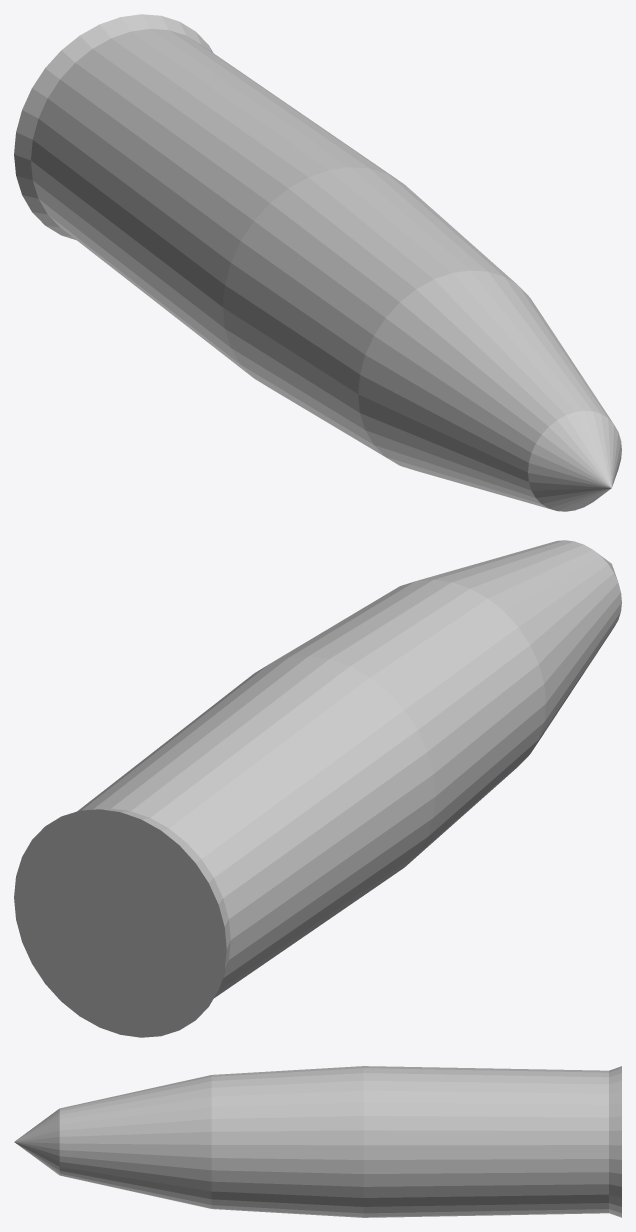
File: bullet.obj
3 renders of one model, top to bottom at view 1: azimuth 30°, elevation 25°; view 2: azimuth 150°, elevation 25°; view 3: azimuth 270°, elevation 25°, orthographic. The views are drawn at different scales.
Visible parts, largest first — view 1: 円柱; view 2: 円柱; view 3: 円柱.
Part boxes in pixels (x1,y1,x2,y2): 円柱: (14, 14, 621, 511); 円柱: (14, 540, 621, 1037); 円柱: (14, 1066, 621, 1217).
Size of the model in its own units: 0.5 by 0.5 by 2.
1 material, 1 textured.
